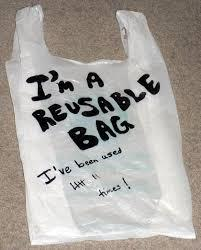Plastic bag: (3, 4, 201, 250)
